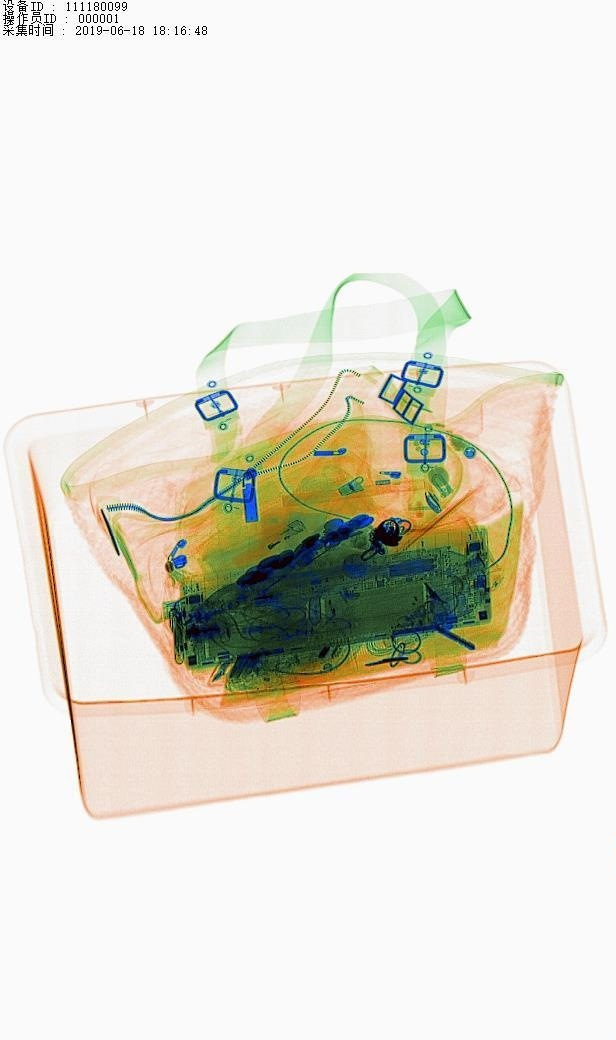NonmetallicFire: (224, 514, 317, 572)
